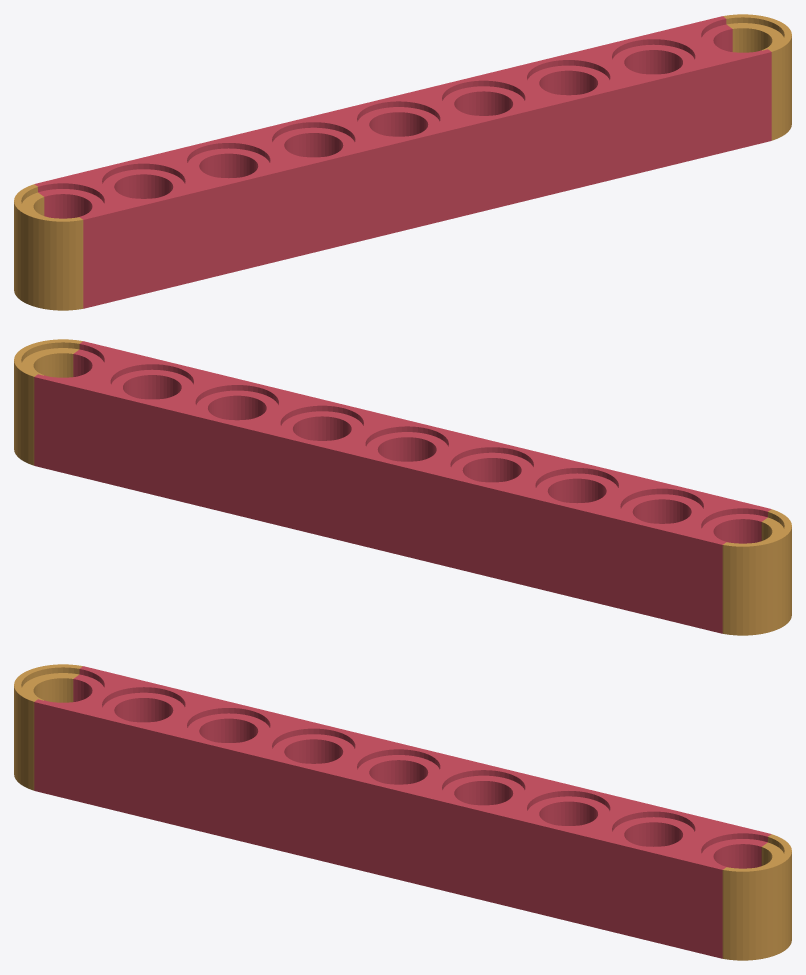
Rendered from Balken.glb.
3 renders of one model, top to bottom at view 1: azimuth 30°, elevation 25°; view 2: azimuth 150°, elevation 25°; view 3: azimuth 330°, elevation 25°, orthographic.
Visible parts, largest first — view 1: Mesh_Mesh_head_geo.001_lambert2SG.001; view 2: Mesh_Mesh_head_geo.001_lambert2SG.001; view 3: Mesh_Mesh_head_geo.001_lambert2SG.001.
Part boxes in pixels (x1=…): Mesh_Mesh_head_geo.001_lambert2SG.001: x1=14, y1=14, x2=791, y2=310; Mesh_Mesh_head_geo.001_lambert2SG.001: x1=14, y1=339, x2=791, y2=635; Mesh_Mesh_head_geo.001_lambert2SG.001: x1=14, y1=664, x2=791, y2=960.
Bounding box in the file's own units: 0.072 × 0.008 × 0.008.
